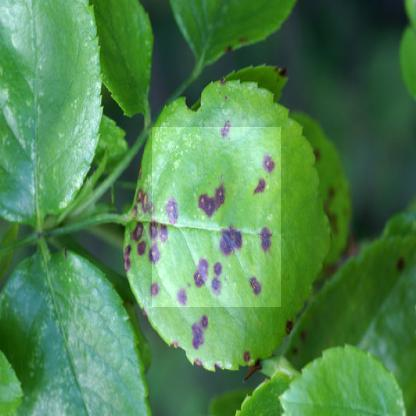black-spot: (152, 127, 281, 307)
